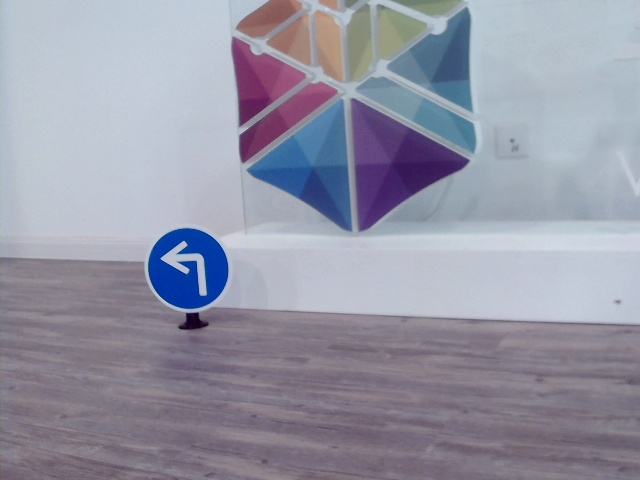turn_left: (161, 237, 213, 295)
